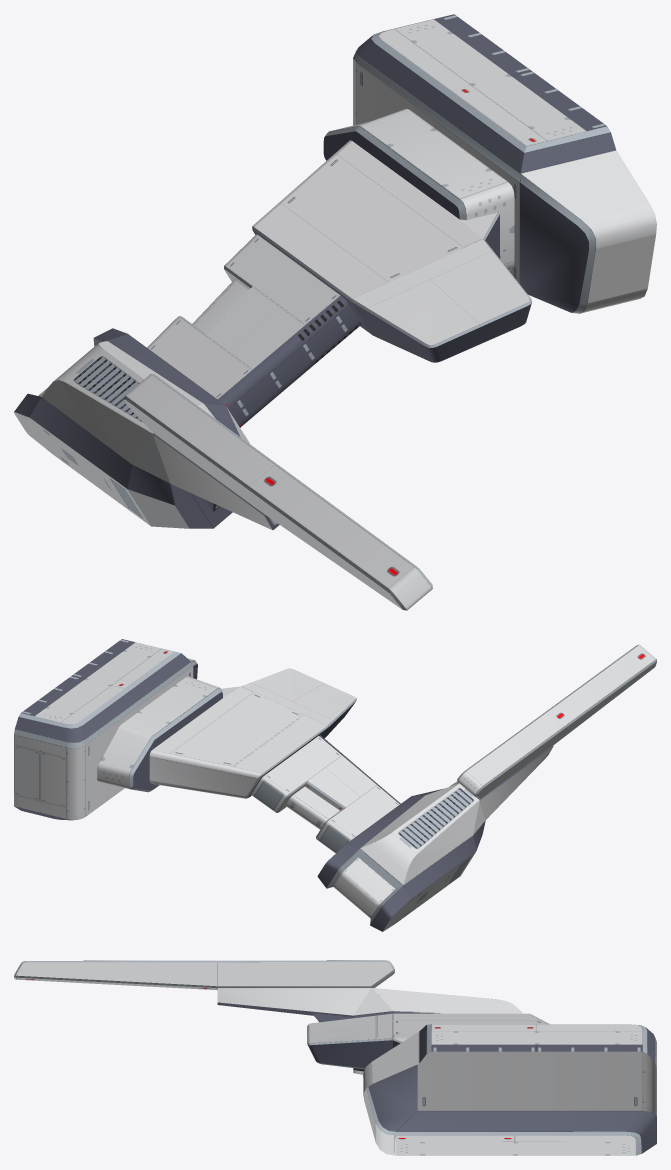
File: Cruiser_Wing_01_Right.FBX
3 views of the same model, one above another, from view 1: azimuth 30°, elevation 25°; view 2: azimuth 150°, elevation 25°; view 3: azimuth 270°, elevation 25° (orthographic). The views are drawn at different scales.
Visible parts, largest first — view 1: Cruiser_Wing_01_Right; view 2: Cruiser_Wing_01_Right; view 3: Cruiser_Wing_01_Right.
Part boxes in pixels (<box>): Cruiser_Wing_01_Right: <box>14,14,656,610</box>; Cruiser_Wing_01_Right: <box>14,639,656,931</box>; Cruiser_Wing_01_Right: <box>14,960,656,1155</box>.
Size of the model in its own units: 128 by 63.35 by 201.
Materials: 2 (2 with a texture image).
